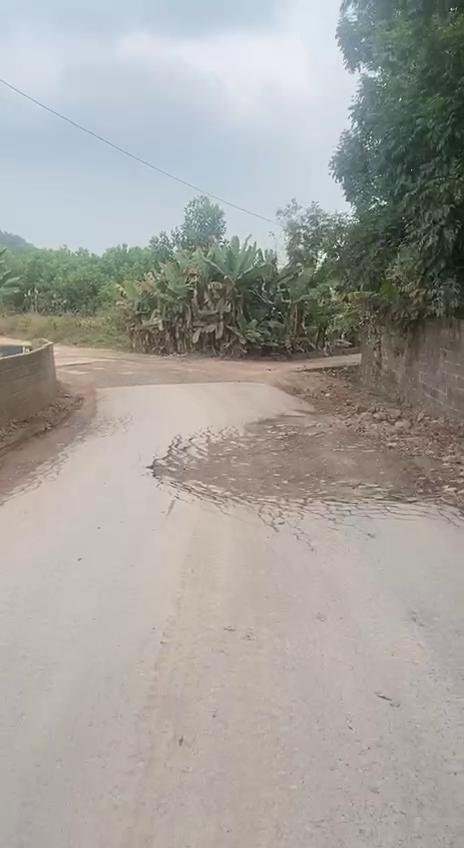pothole: (149, 423, 430, 506)
